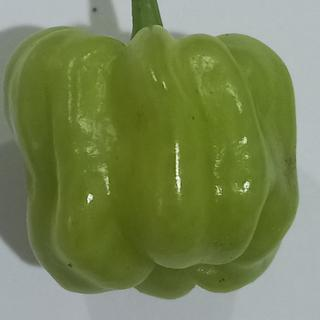Grade-B: (2, 22, 301, 299)
